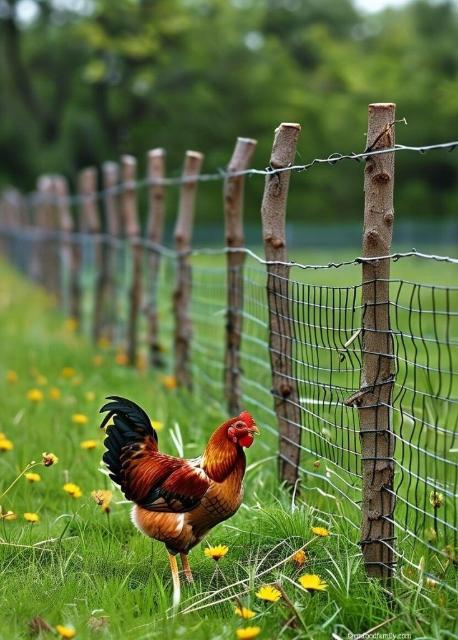Chicken: (102, 393, 263, 609)
